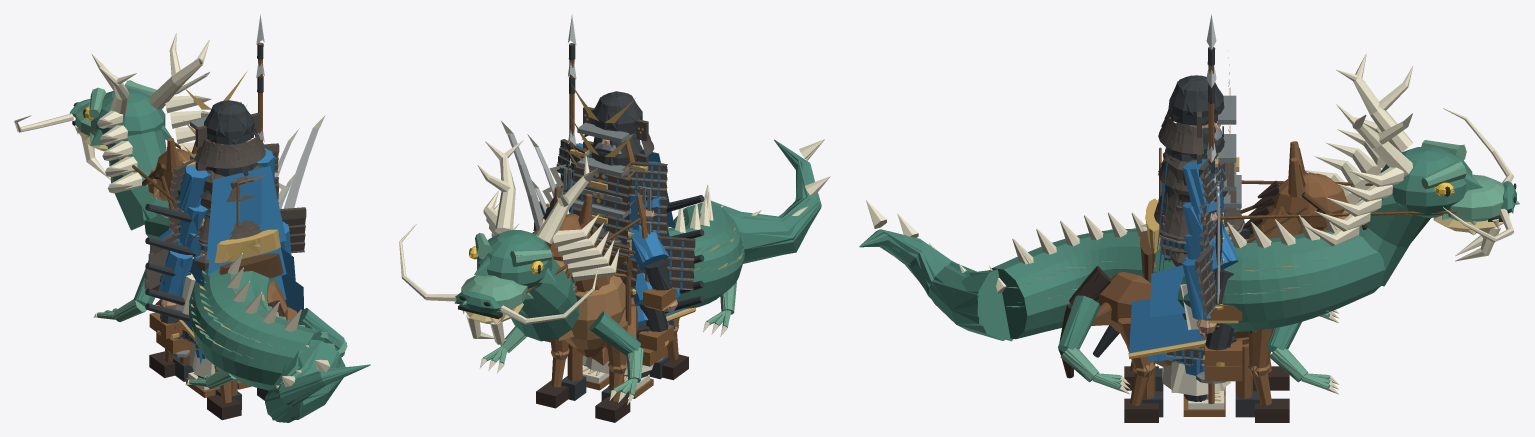
Rendered from army.glb.
3 views of the same model, side by side, from view 1: azimuth 30°, elevation 25°; view 2: azimuth 150°, elevation 25°; view 3: azimuth 270°, elevation 25° (orthographic). The views are drawn at different scales.
Visible parts, largest first — view 1: D_SerpentineBody, LOD_D_WhiskersMane, D_Kabuto, LOD_D_Jinbaori, D_DragonTail, D_DragonHead, LOD_D_Antlers, LOD_D_DragonTail, D_DragonSaddle, LOD_D_Kabuto, R_Horse, R_Saddle (+31 smaller); view 2: D_SerpentineBody, D_DragonHead, LOD_D_WhiskersMane, R_Horse, D_DragonTail, LOD_D_Antlers, D_Kabuto, LOD_D_DragonTail, LOD_D_DragonHead, N_Horse, D_DragonForelegL, R_HorseForelegL (+26 smaller); view 3: D_SerpentineBody, LOD_D_WhiskersMane, D_DragonHead, R_Horse, D_DragonTail, LOD_D_Antlers, D_Kabuto, LOD_D_DragonTail, D_DorsalMane, N_Horse, LOD_R_SaddleCloth, R_HorseForelegR (+23 smaller).
Boxes of the visible parts, x1=… form: D_SerpentineBody: x1=107, y1=130, x2=325, y2=390; LOD_D_WhiskersMane: x1=14, y1=72, x2=211, y2=193; D_Kabuto: x1=190, y1=100, x2=265, y2=168; LOD_D_Jinbaori: x1=206, y1=166, x2=286, y2=260; D_DragonTail: x1=265, y1=339, x2=370, y2=422; D_DragonHead: x1=69, y1=80, x2=165, y2=151; LOD_D_Antlers: x1=91, y1=33, x2=209, y2=117; LOD_D_DragonTail: x1=265, y1=341, x2=353, y2=420; D_DragonSaddle: x1=90, y1=130, x2=280, y2=299; LOD_D_Kabuto: x1=190, y1=100, x2=265, y2=168; R_Horse: x1=147, y1=137, x2=287, y2=320; R_Saddle: x1=142, y1=164, x2=283, y2=343; D_SerpentineBody: x1=511, y1=202, x2=744, y2=341; D_DragonHead: x1=455, y1=231, x2=552, y2=323; LOD_D_WhiskersMane: x1=399, y1=190, x2=619, y2=344; R_Horse: x1=545, y1=186, x2=636, y2=349; D_DragonTail: x1=711, y1=139, x2=821, y2=263; LOD_D_Antlers: x1=477, y1=140, x2=597, y2=243; D_Kabuto: x1=577, y1=91, x2=653, y2=155; LOD_D_DragonTail: x1=711, y1=146, x2=820, y2=256; LOD_D_DragonHead: x1=454, y1=230, x2=557, y2=324; N_Horse: x1=561, y1=241, x2=670, y2=400; D_DragonForelegL: x1=589, y1=311, x2=643, y2=404; R_HorseForelegL: x1=595, y1=321, x2=630, y2=422; D_SerpentineBody: x1=989, y1=184, x2=1430, y2=339; LOD_D_WhiskersMane: x1=1303, y1=108, x2=1513, y2=261; D_DragonHead: x1=1380, y1=140, x2=1516, y2=232; R_Horse: x1=1099, y1=141, x2=1367, y2=338; D_DragonTail: x1=859, y1=229, x2=1010, y2=340; LOD_D_Antlers: x1=1336, y1=53, x2=1412, y2=176; D_Kabuto: x1=1158, y1=75, x2=1236, y2=153; LOD_D_DragonTail: x1=868, y1=231, x2=1013, y2=341; D_DorsalMane: x1=1012, y1=212, x2=1338, y2=264; N_Horse: x1=1093, y1=228, x2=1260, y2=417; LOD_R_SaddleCloth: x1=1129, y1=299, x2=1205, y2=353; R_HorseForelegR: x1=1248, y1=328, x2=1289, y2=422.
Size of the model in its own units: 1.76 by 3 by 4.4.
